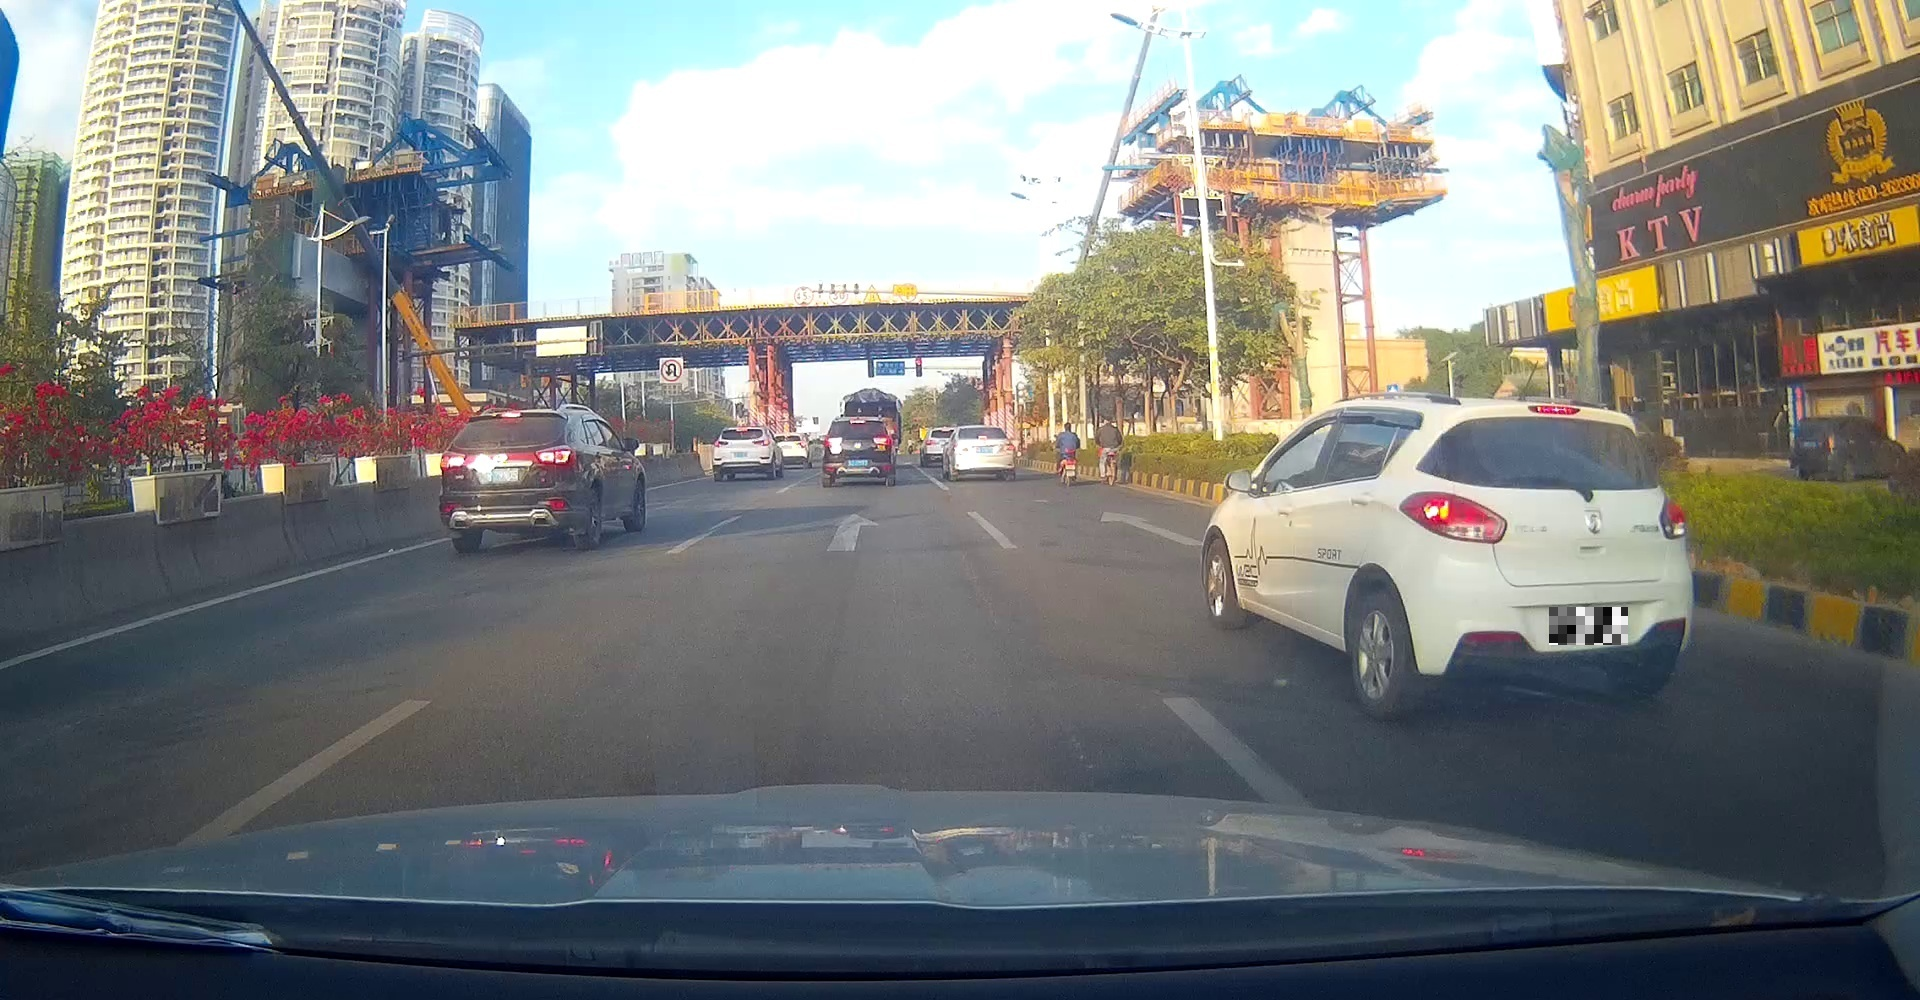L_light: (1398, 491, 1507, 544), (439, 453, 465, 470), (822, 437, 842, 447), (952, 445, 970, 453), (712, 442, 729, 448)
R_light: (1656, 489, 1688, 541), (535, 445, 571, 466), (872, 435, 891, 445), (750, 439, 770, 445), (1002, 444, 1015, 452)
T_light: (1528, 405, 1582, 416), (499, 411, 522, 418), (850, 419, 865, 424), (977, 435, 987, 440), (735, 428, 747, 431)
day-brake: (1394, 398, 1693, 722), (438, 409, 577, 553), (822, 418, 893, 487), (952, 425, 1016, 482), (712, 426, 771, 481)
plate_1: (1549, 607, 1628, 645)
